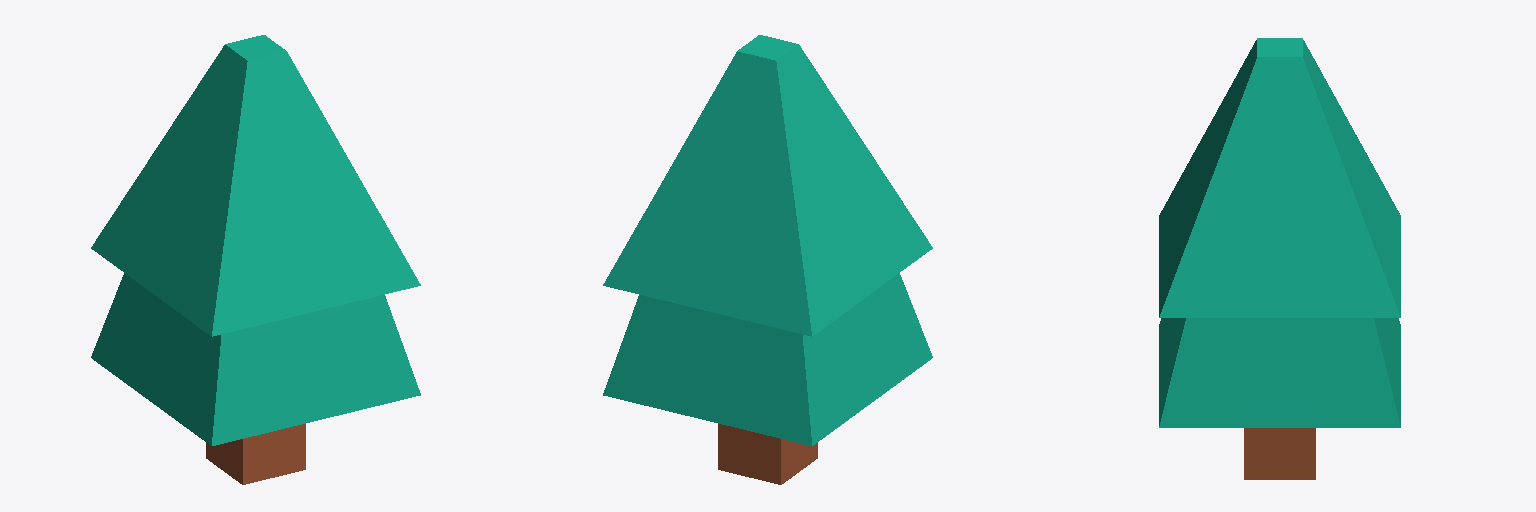
Rendered from unit_tree.obj.
3 views of the same model, side by side, from view 1: azimuth 30°, elevation 25°; view 2: azimuth 150°, elevation 25°; view 3: azimuth 270°, elevation 25° (orthographic).
Visible parts, largest first — view 1: unit_tree; view 2: unit_tree; view 3: unit_tree.
Boxes of the visible parts, box(x1,y1,x2,y2) form: unit_tree: box(91, 35, 420, 484); unit_tree: box(603, 35, 932, 484); unit_tree: box(1159, 38, 1400, 479).
Size of the model in its own units: 0.2 by 0.38 by 0.2.